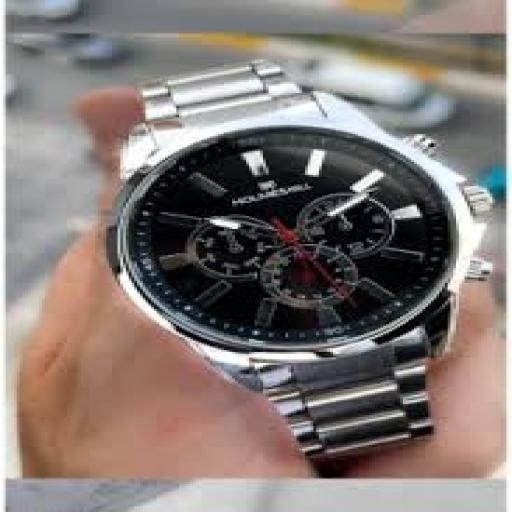KolSaati: (78, 51, 512, 474)
